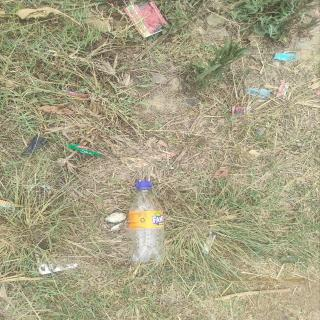Plastic-bottle: (126, 179, 168, 265)
